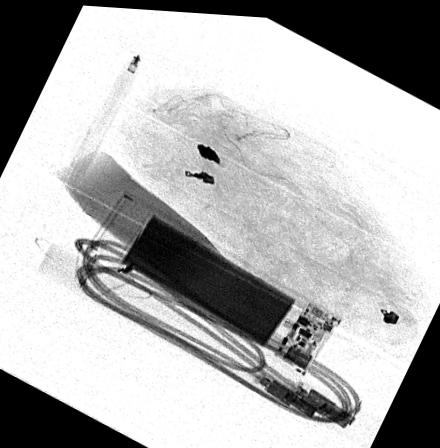Powerbank: (90, 185, 344, 373)
